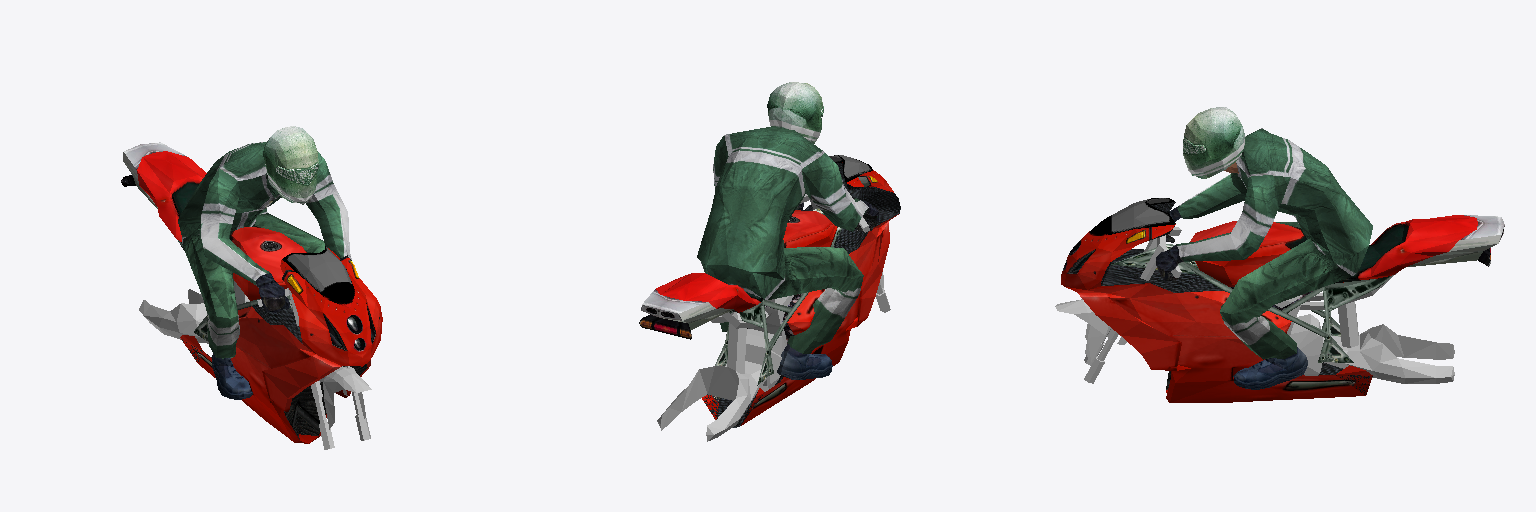
3 views of the same model, side by side, from view 1: azimuth 30°, elevation 25°; view 2: azimuth 150°, elevation 25°; view 3: azimuth 270°, elevation 25° (orthographic).
Bounding box in the file's own units: 11.05 × 21.14 × 29.07.
6 materials, 4 textured.